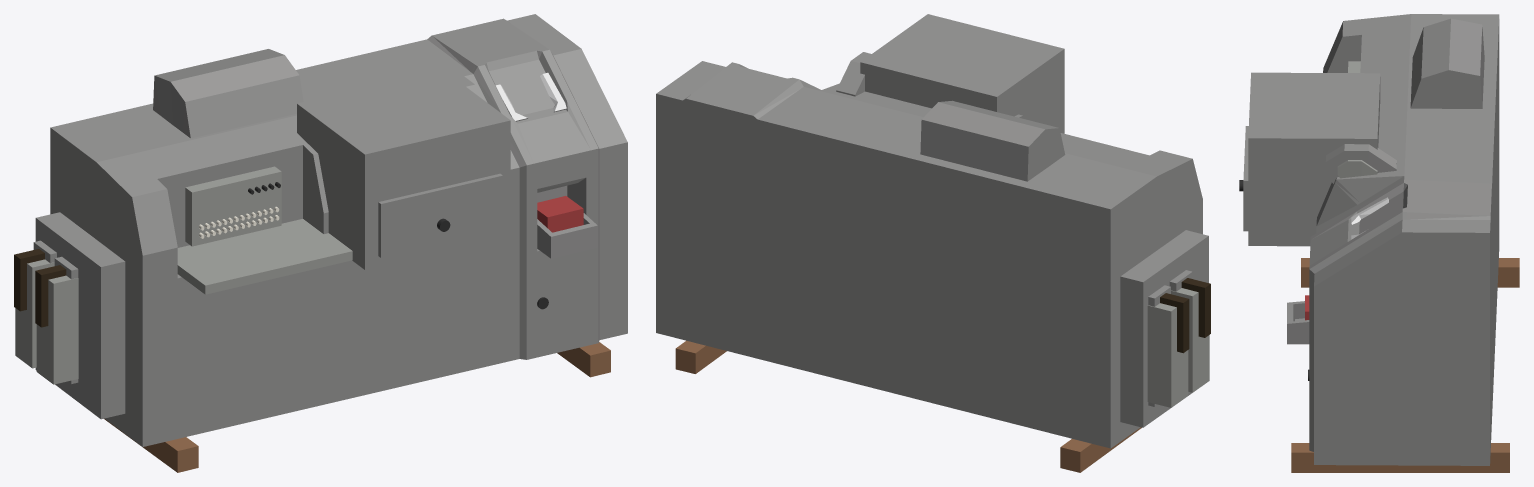
The model's file is tabulatrice.dae.
3 views of the same model, side by side, from view 1: azimuth 30°, elevation 25°; view 2: azimuth 150°, elevation 25°; view 3: azimuth 270°, elevation 25° (orthographic). The views are drawn at different scales.
Visible parts, largest first — view 1: Cube.074, Cube.075, Cube.086, Cube.085, Cube.084, Cube.079, Cube.083, Cube.091, Cube.088, Cube.080, Cube.072, Cube.081 (+4 smaller); view 2: Cube.074, Cube.075, Cube.085, Cube.086, Cube.088, Cube.091, Cube.072, Cube.073, Cube.089, Cube.092, Cube.076; view 3: Cube.074, Cube.075, Cube.085, Cube.073, Cube.076, Cube.072, Cube.080, Cube.079, Cube.078, Cube.082.
Boxes of the visible parts, left/top/right/bottom form: Cube.074: left=50, top=14, right=627, bottom=446; Cube.075: left=297, top=69, right=510, bottom=269; Cube.086: left=35, top=212, right=125, bottom=419; Cube.085: left=153, top=49, right=303, bottom=138; Cube.084: left=177, top=219, right=352, bottom=294; Cube.079: left=378, top=173, right=502, bottom=257; Cube.083: left=185, top=166, right=281, bottom=246; Cube.091: left=36, top=275, right=78, bottom=384; Cube.088: left=15, top=259, right=54, bottom=368; Cube.080: left=537, top=213, right=597, bottom=258; Cube.072: left=104, top=418, right=198, bottom=472; Cube.081: left=537, top=196, right=583, bottom=232; Cube.074: left=656, top=61, right=1202, bottom=448; Cube.075: left=860, top=14, right=1064, bottom=133; Cube.085: left=920, top=100, right=1065, bottom=181; Cube.086: left=1120, top=230, right=1208, bottom=427; Cube.088: left=1147, top=303, right=1188, bottom=407; Cube.091: left=1171, top=288, right=1209, bottom=392; Cube.072: left=1060, top=427, right=1141, bottom=472; Cube.073: left=675, top=340, right=726, bottom=373; Cube.089: left=1160, top=293, right=1189, bottom=353; Cube.092: left=1181, top=278, right=1210, bottom=337; Cube.076: left=836, top=52, right=871, bottom=96; Cube.074: left=1309, top=14, right=1499, bottom=465; Cube.075: left=1248, top=72, right=1380, bottom=246; Cube.085: left=1410, top=18, right=1484, bottom=108; Cube.073: left=1291, top=443, right=1509, bottom=472; Cube.076: left=1325, top=144, right=1396, bottom=183; Cube.072: left=1301, top=258, right=1519, bottom=287; Cube.080: left=1287, top=301, right=1309, bottom=344; Cube.079: left=1243, top=126, right=1248, bottom=231; Cube.078: left=1337, top=160, right=1377, bottom=178; Cube.082: left=1351, top=197, right=1388, bottom=239.
Size of the model in its own units: 51.47 by 24.95 by 28.79.
